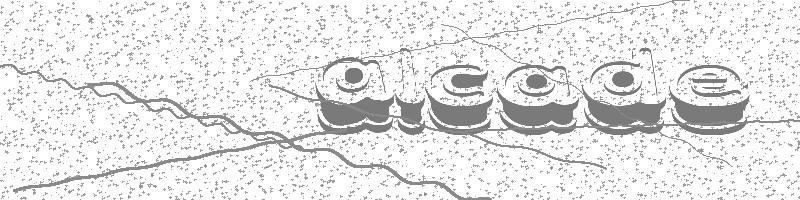a: (316, 58, 395, 134), (499, 65, 580, 134)
c: (427, 65, 493, 135)
d: (584, 48, 666, 136)
e: (670, 65, 749, 136)
l: (396, 49, 425, 135)
